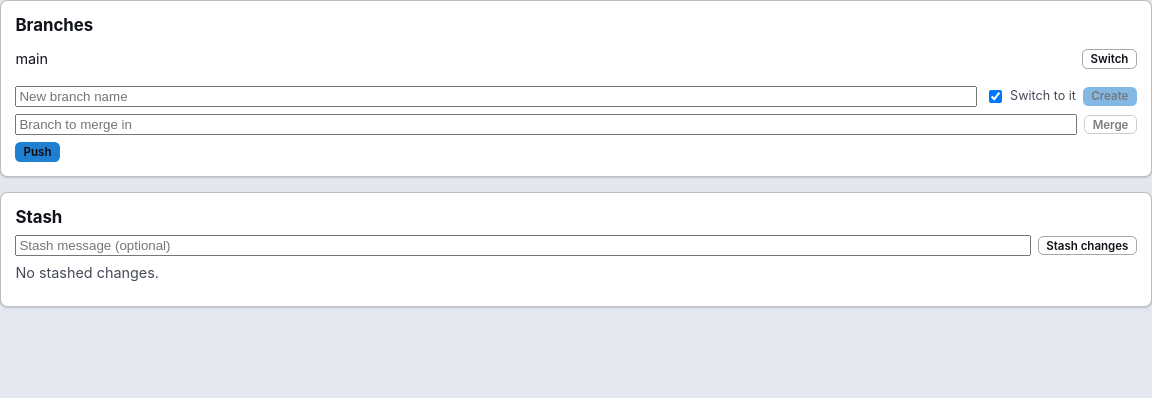
it: GitBranchPanel: branches (SPEC §7.6; issue #234) › renders a fixed-branch message for a worktree-isolated session, without pretending the switch happened
What coordinates should you click on to do the following:
click the button with test id "git-branch-switch-main"
I would click on:
 (1109, 59)
Its box is [1082,50,1137,69].
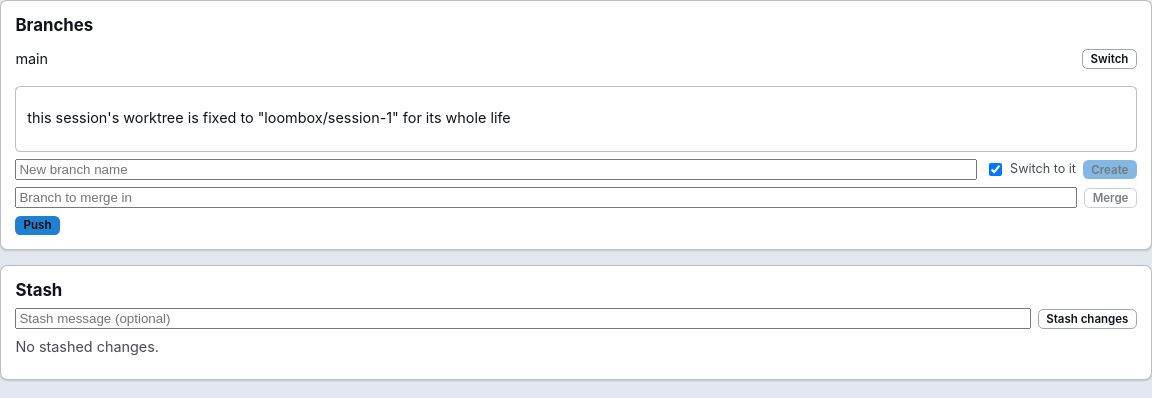
expect the element with test id "git-branch-session-fixed" shows "fixed to \"loombox/session-1\"": met, box [27,110,511,126]
